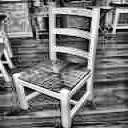chair_success: (6, 1, 110, 127)
